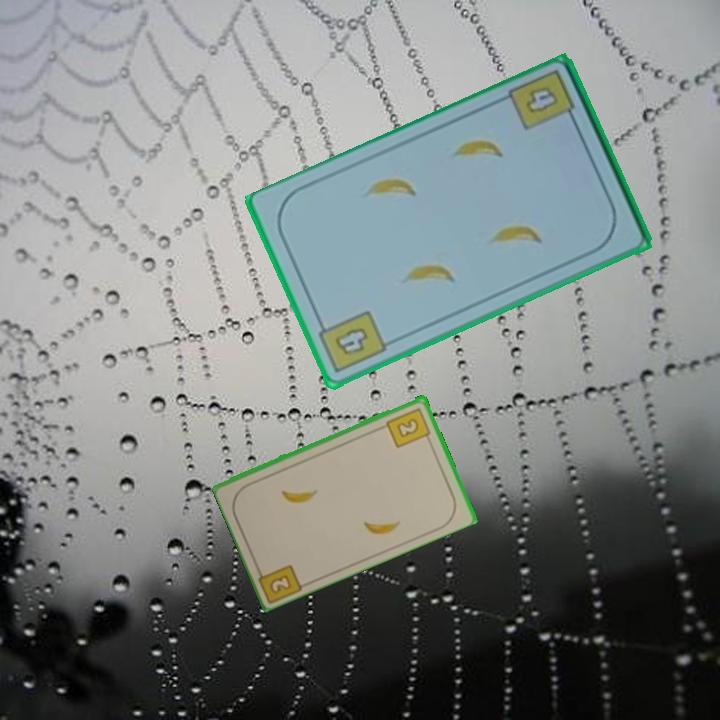2b: (383, 404, 434, 450), (253, 561, 306, 604)
4b: (314, 307, 390, 376), (505, 66, 580, 134)
